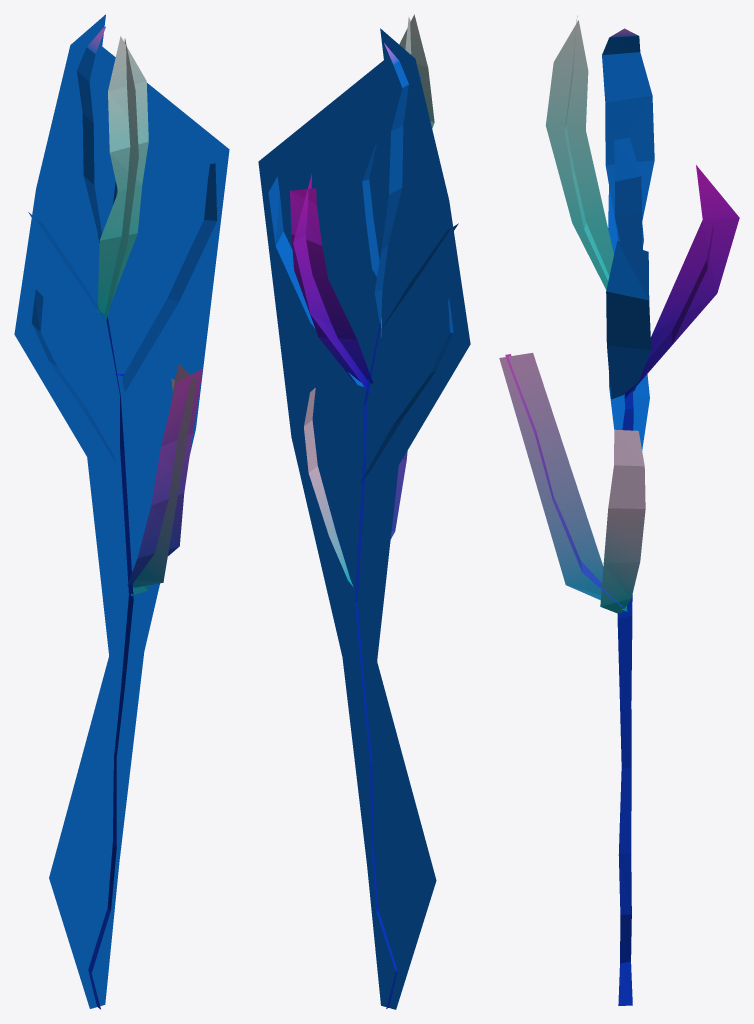
Rendered from Nordic_Coastal_Groundcover_vlqkdeaja_Mid_vlqkdeaja_VarC_LOD0.fbx.
3 renders of one model, left to right at view 1: azimuth 30°, elevation 25°; view 2: azimuth 150°, elevation 25°; view 3: azimuth 270°, elevation 25°, orthographic.
Visible parts, largest first — view 1: _1ery_VarC_LOD1; view 2: _1ery_VarC_LOD1; view 3: _1ery_VarC_LOD1.
Boxes of the visible parts, bbox=[...] form: _1ery_VarC_LOD1: bbox=[14, 14, 229, 1009]; _1ery_VarC_LOD1: bbox=[258, 14, 470, 1009]; _1ery_VarC_LOD1: bbox=[499, 15, 739, 1005].
Bounding box in the file's own units: 10.59 × 46.62 × 10.23.
